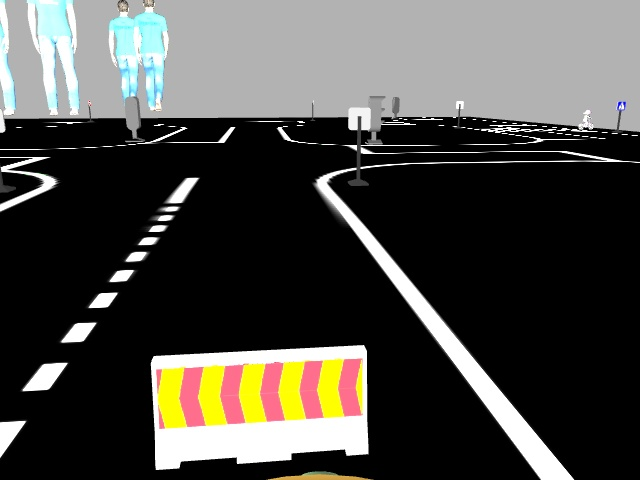ClosedRoadStand: (150, 358, 366, 449)
